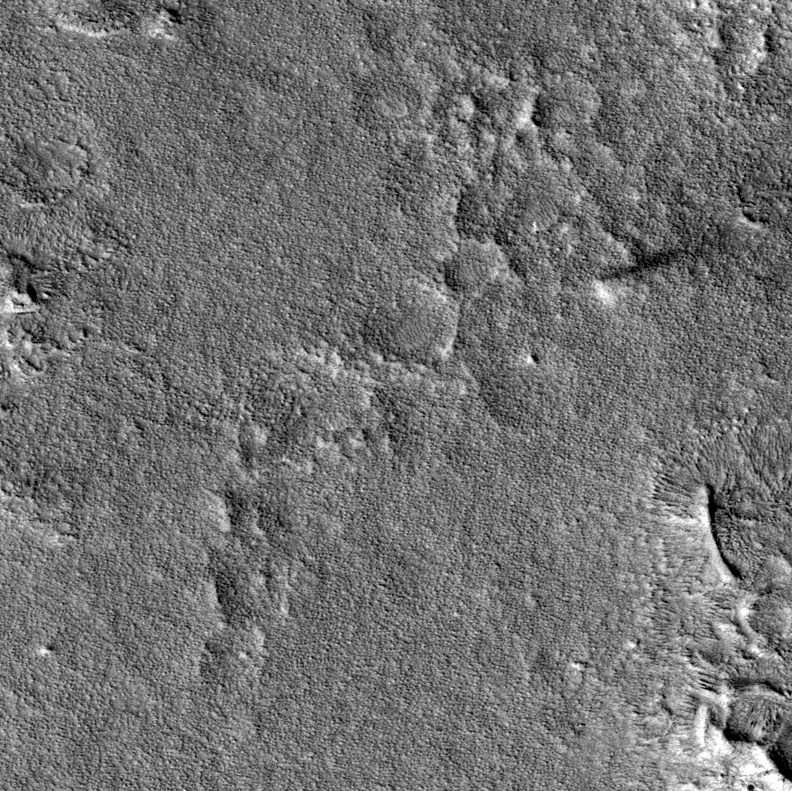dust_devil: (592, 245, 701, 307)
